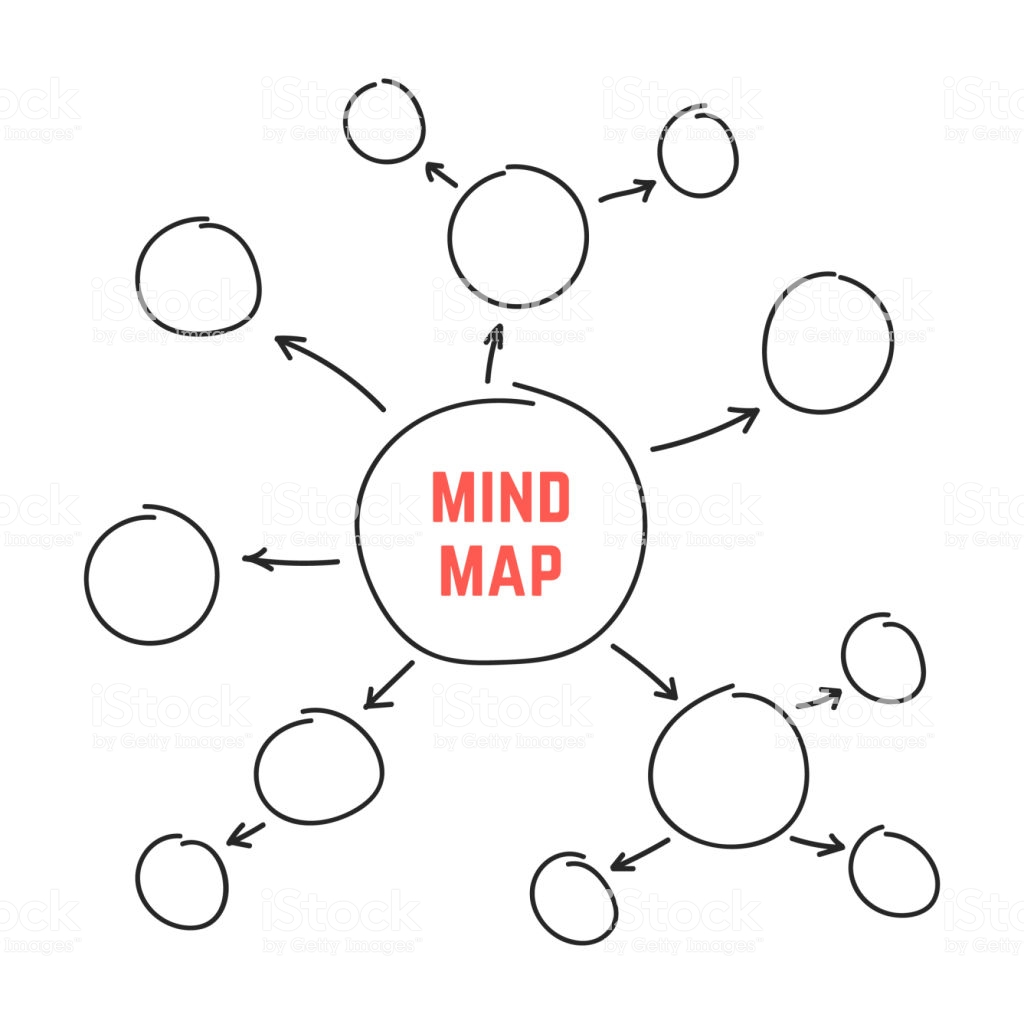circle: (350, 374, 651, 670), (642, 679, 814, 853), (443, 160, 594, 315), (755, 267, 902, 420), (79, 500, 233, 646), (247, 704, 394, 830), (129, 209, 268, 342), (128, 827, 232, 934), (840, 820, 943, 922), (521, 845, 622, 949), (836, 607, 932, 711), (653, 100, 742, 202), (342, 76, 428, 170)
line: (270, 327, 388, 420), (650, 398, 759, 459), (603, 639, 685, 707), (239, 539, 347, 579), (351, 655, 422, 715), (609, 835, 676, 879), (788, 827, 848, 864), (595, 174, 658, 208), (479, 318, 507, 385), (794, 682, 846, 718), (224, 818, 269, 855), (420, 160, 463, 194)
